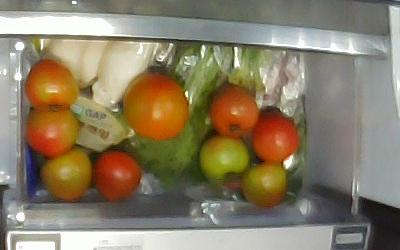tomato: (123, 75, 188, 139), (39, 149, 92, 201), (25, 106, 77, 157), (91, 150, 141, 203), (26, 58, 76, 109), (210, 86, 259, 137), (200, 136, 248, 186), (250, 113, 297, 161), (241, 161, 287, 207)
